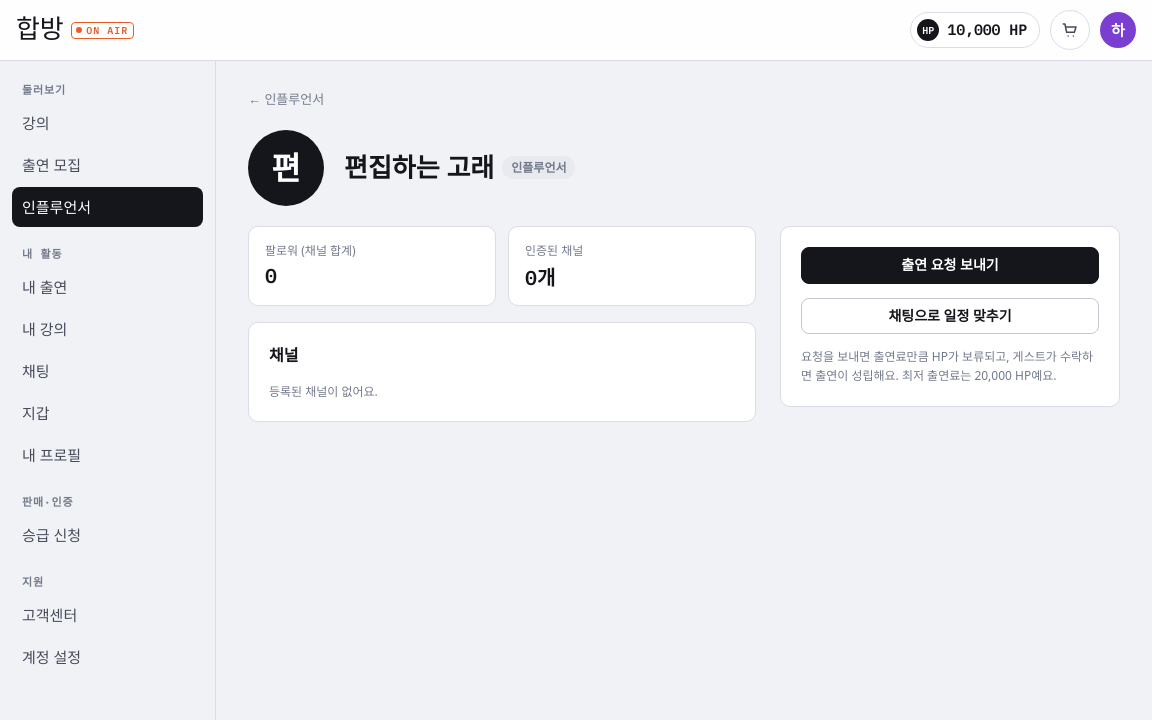
Scenario: 출연 요청 보내기 › HP가 모자라면 충전으로 안내한다
Step 1. Click the button "출연 요청 보내기" → click(950, 265), box [801,247,1099,284]
(page scrolled)
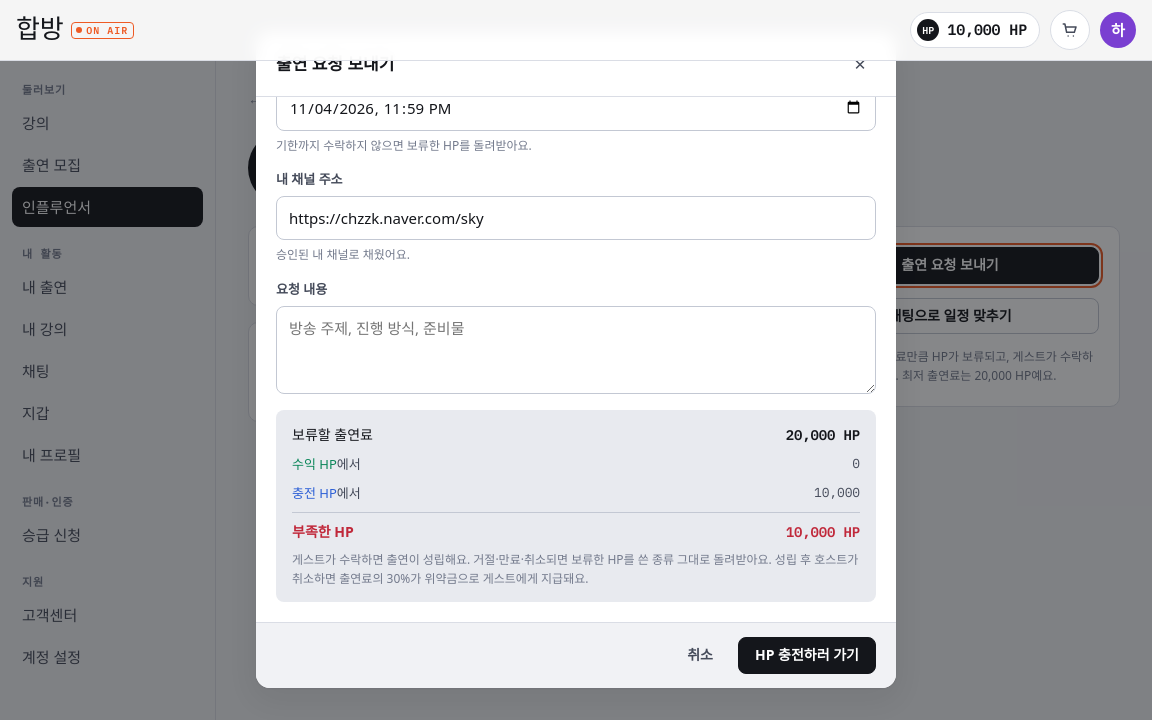
Expected: the text "10,000 HP" in the row of "부족한 HP" is shown, [786,520,860,543]
